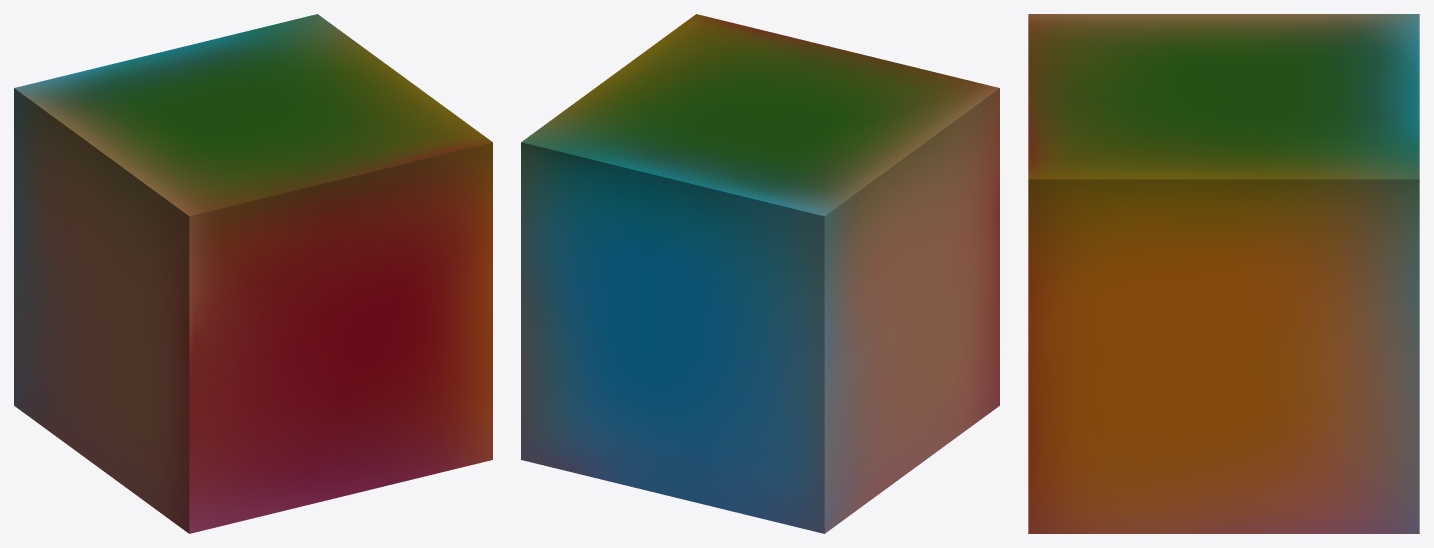
Rendered from testplanetV2.fbx.
The picture shows the model from 3 angles, left to right: view 1: azimuth 30°, elevation 25°; view 2: azimuth 150°, elevation 25°; view 3: azimuth 270°, elevation 25°; orthographic projection. The views are drawn at different scales.
Visible parts, largest first — view 1: atmosphere; view 2: atmosphere; view 3: atmosphere.
Boxes of the visible parts, x1,y1,x2,y2 form: atmosphere: [14, 14, 492, 533]; atmosphere: [521, 14, 999, 533]; atmosphere: [1028, 14, 1419, 533].
Bounding box in the file's own units: 321 × 321 × 321.
